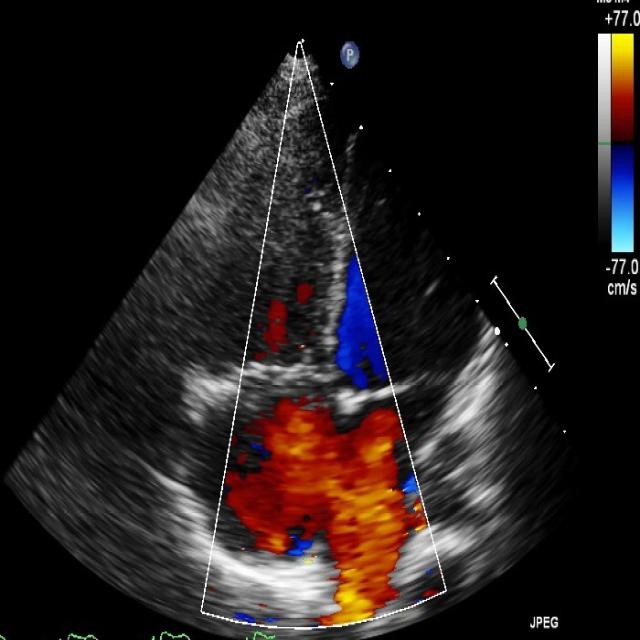ASDType2: (223, 393, 428, 626)
